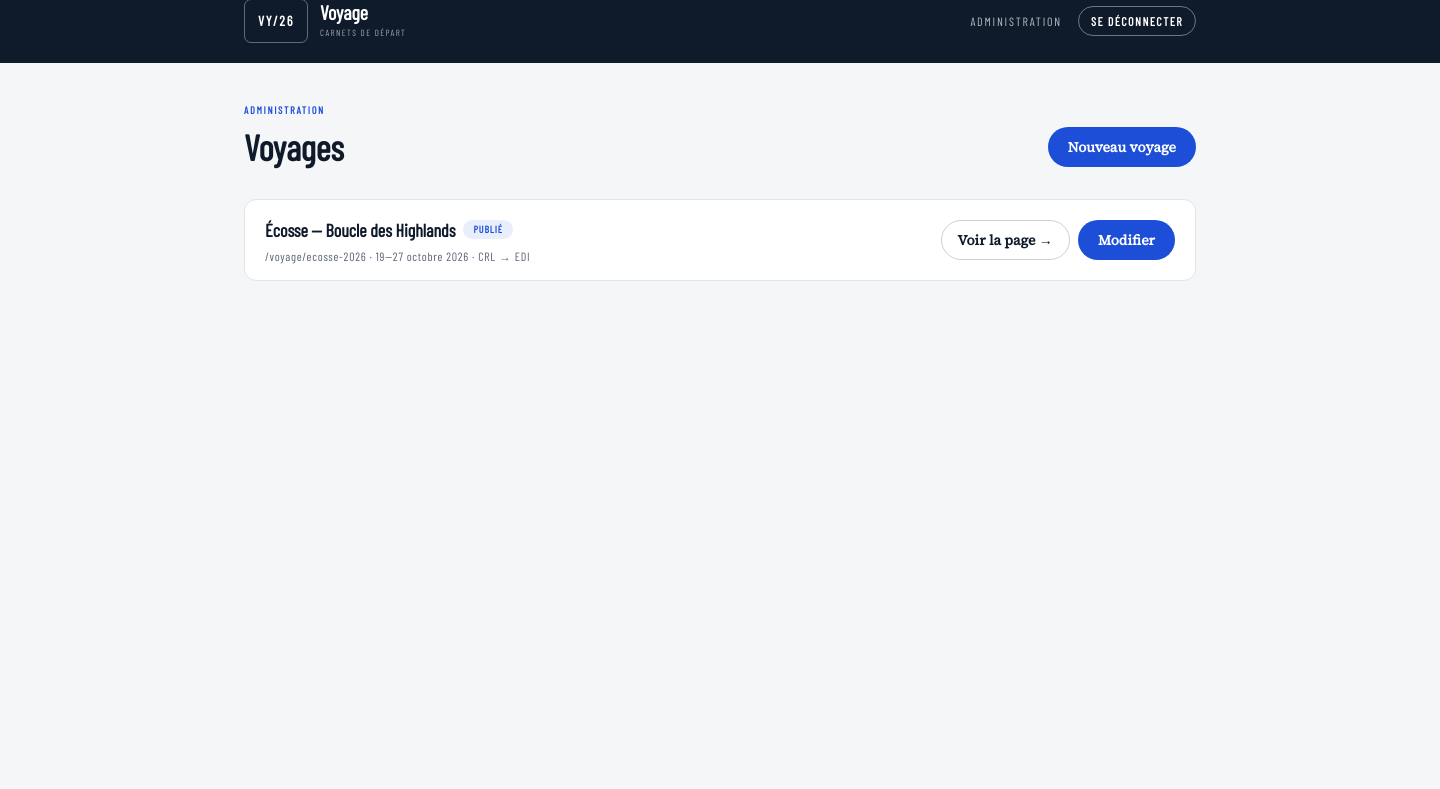
Scenario: édition d'un voyage › garde l'id et le tracé des étapes existantes à l'enregistrement
The width and height of the screenshot is (1440, 789).
Click the button "Modifier" at (1126, 240), box [1078,220,1175,260]
(page scrolled)
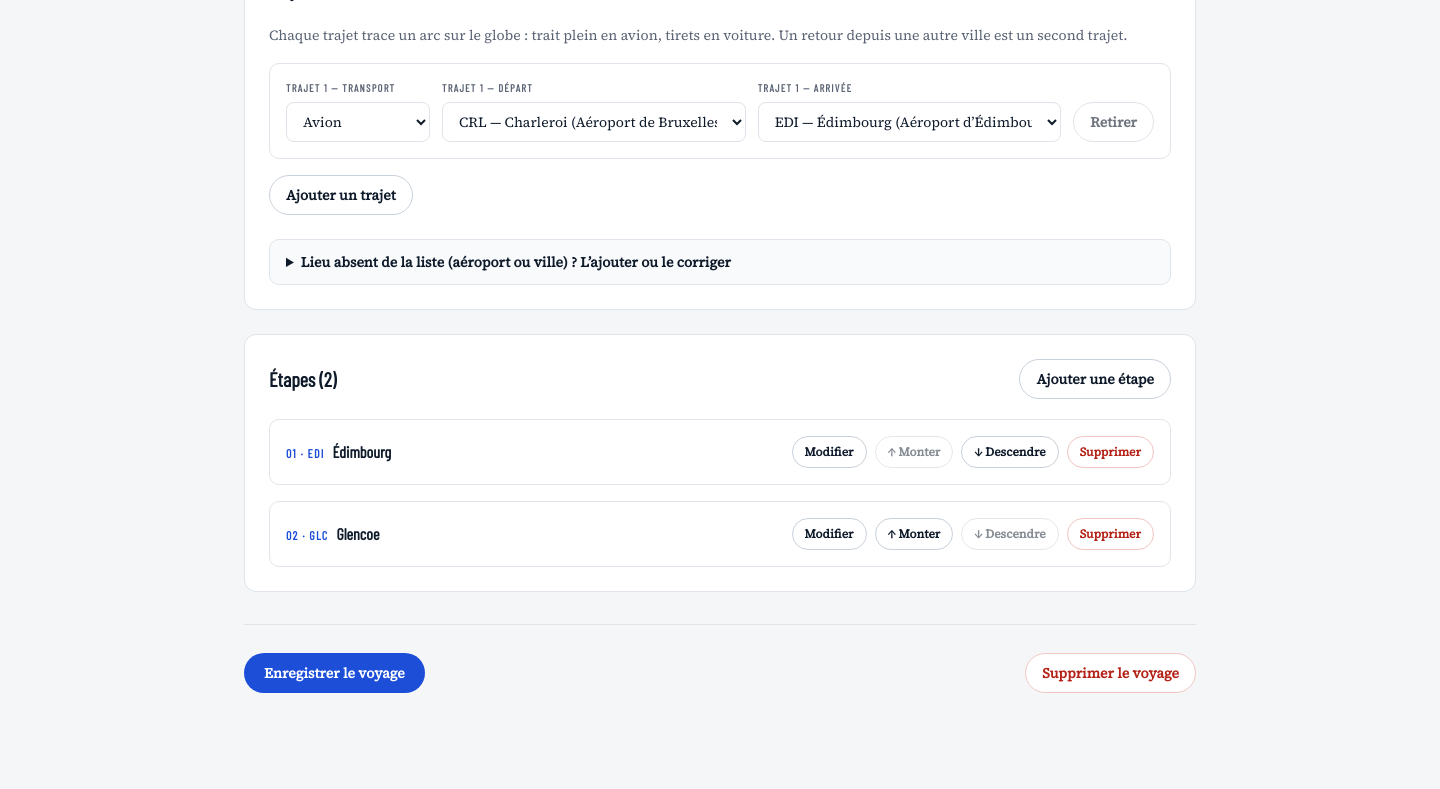
Click the button with aria-label "Monter Étape 2 — Glencoe" at (914, 534), box [875,518,953,550]
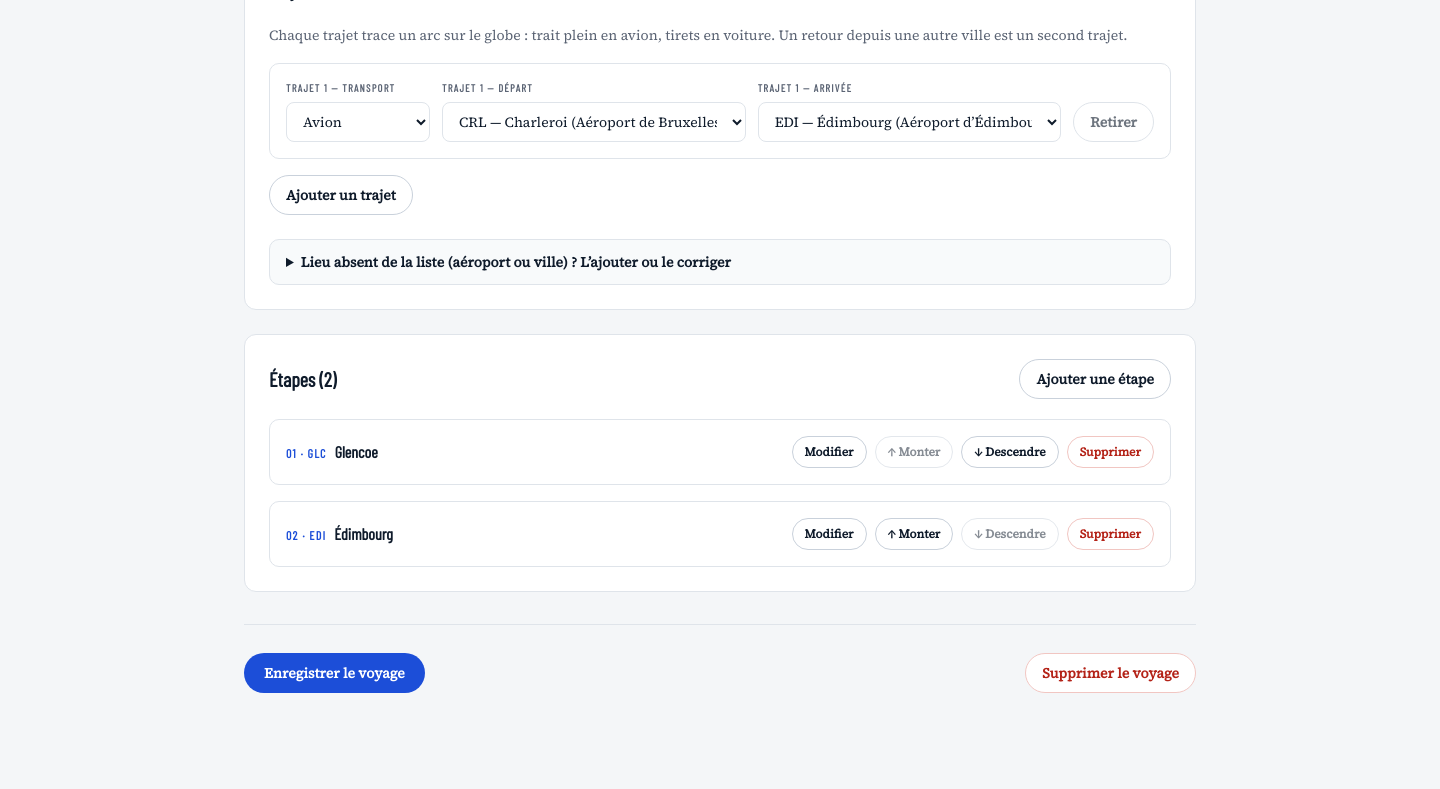
Click the button "Ajouter une étape" at (1095, 379), box [1019,359,1171,399]
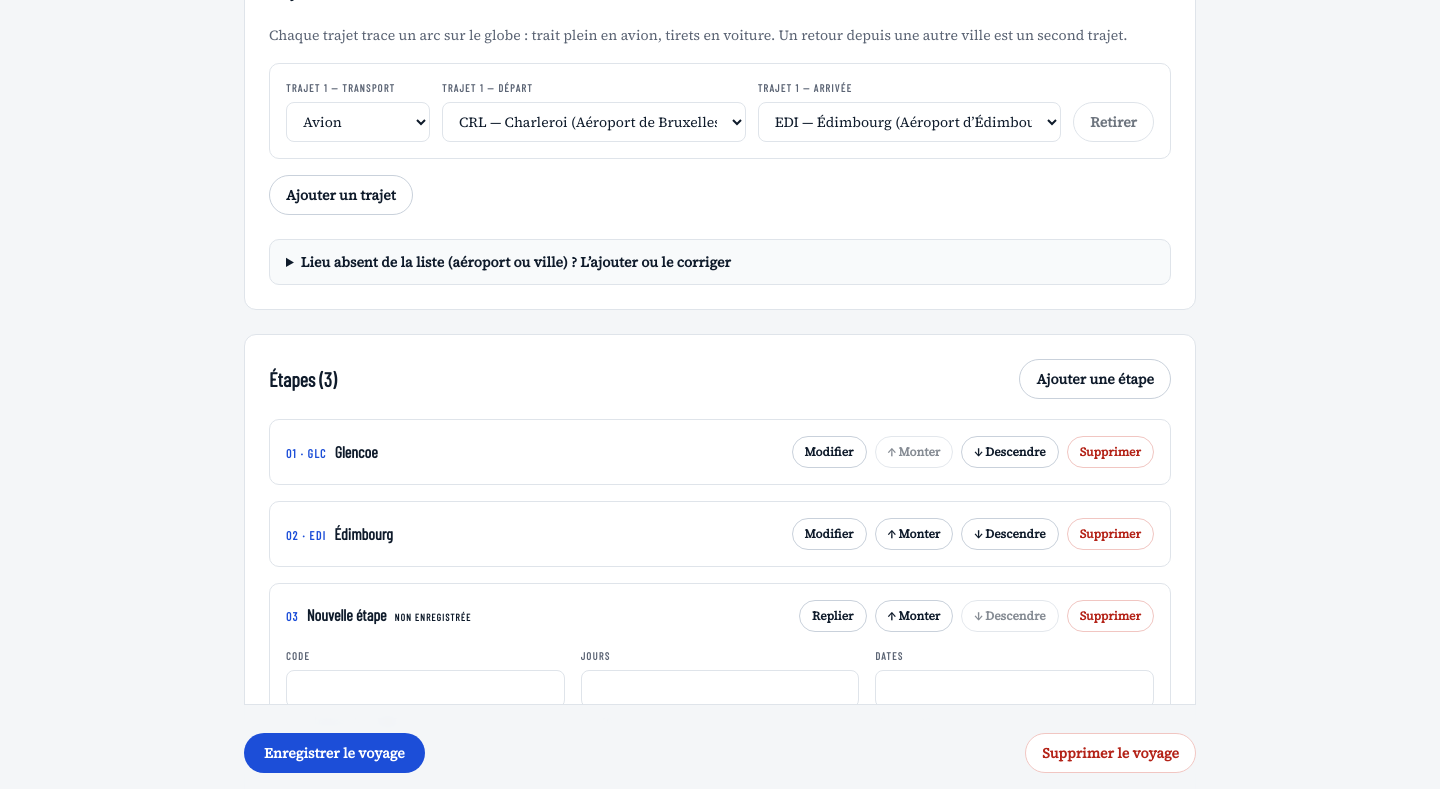
Type "SKY" into the field labelled "Code" at (425, 689), box [286,670,565,708]
(page scrolled)
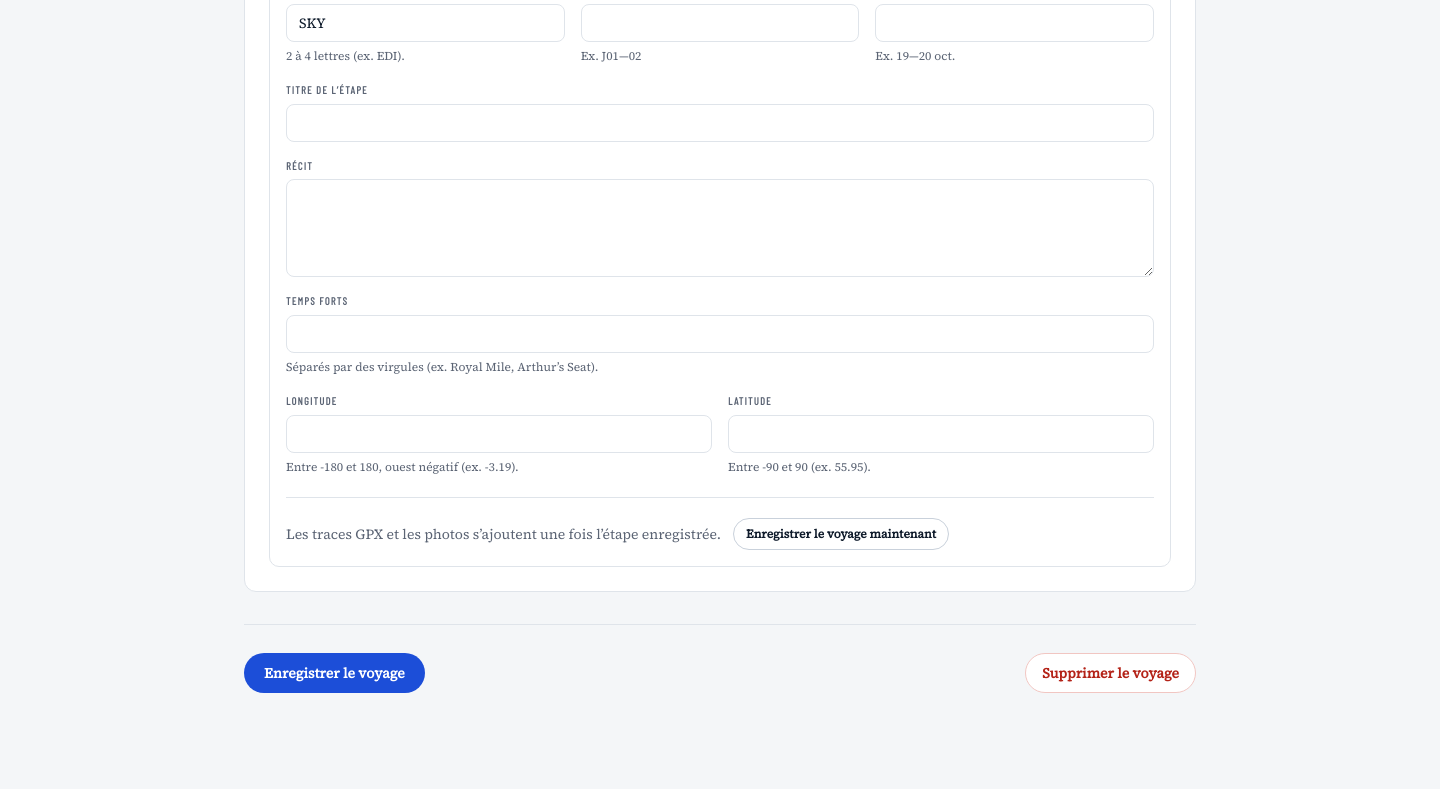
Type "-6.2" into the field labelled "Longitude" at (499, 434), box [286,415,712,453]
Type "57.4" into the field labelled "Latitude" at (941, 434), box [728,415,1154,453]
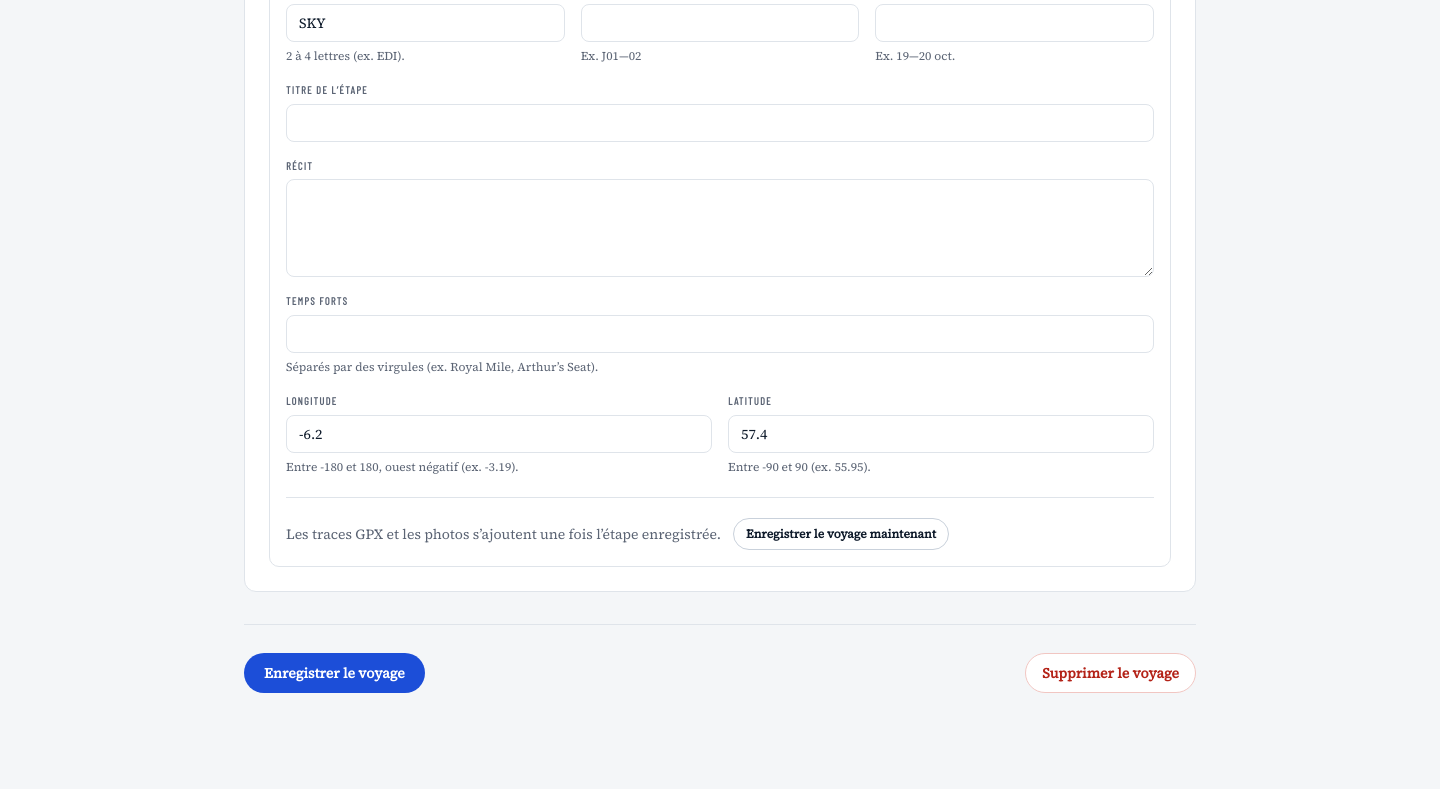
Click the button "Enregistrer le voyage" at (334, 673), box [244,653,425,693]
(page scrolled)
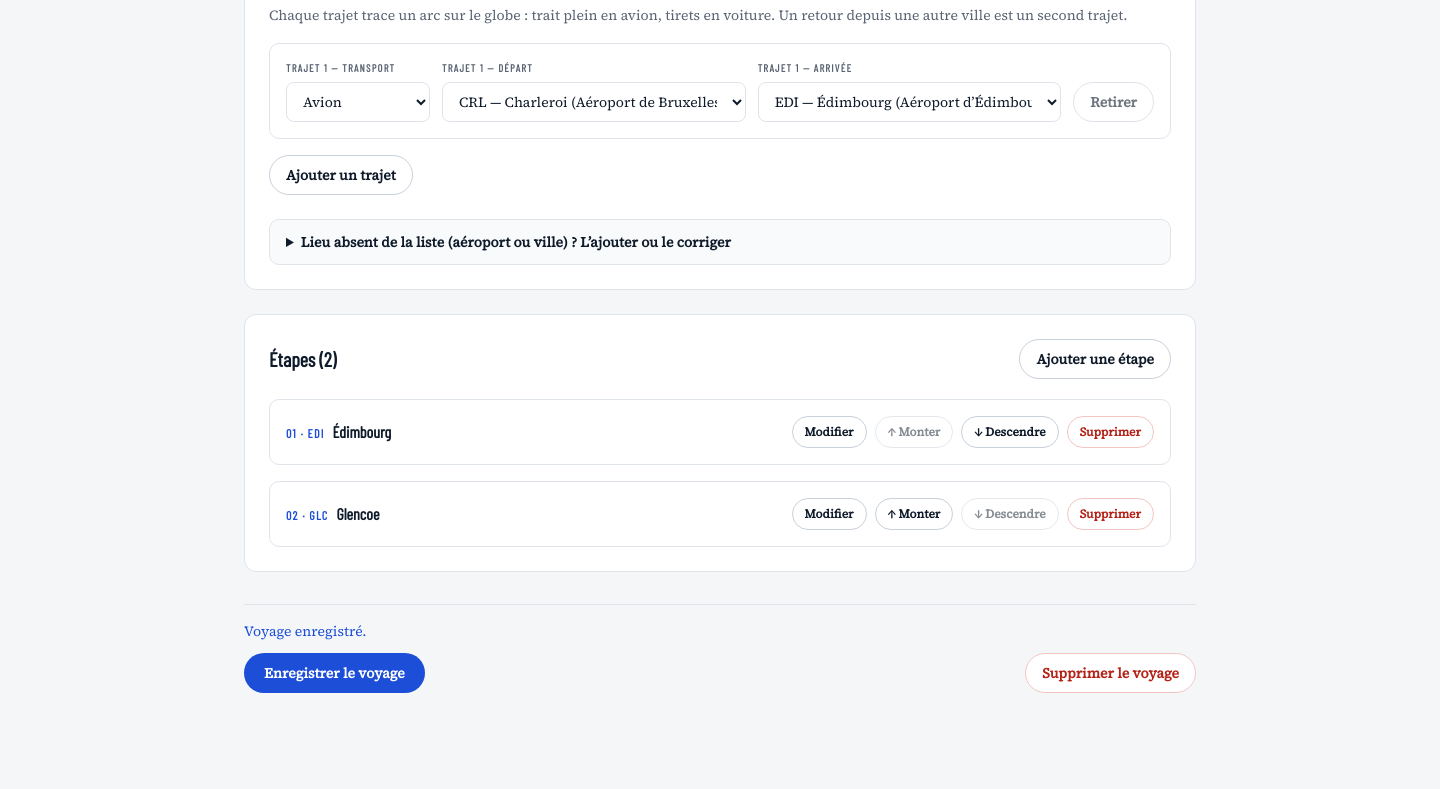
Check: the text "Voyage enregistré." is shown, box [244,621,367,641]
